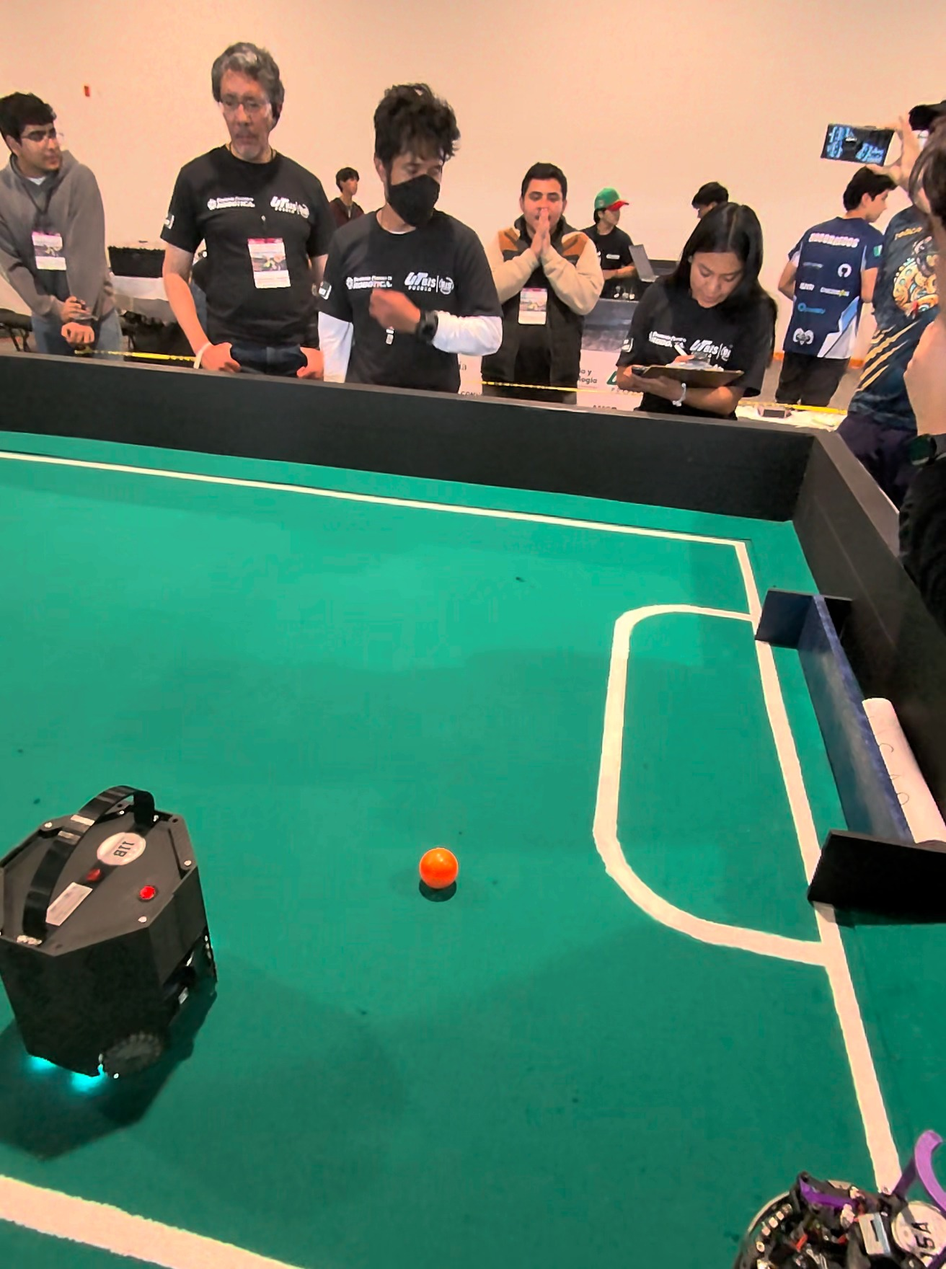Robot: (0, 766, 237, 1115), (727, 1141, 945, 1265)
pelota: (417, 854, 460, 900)
